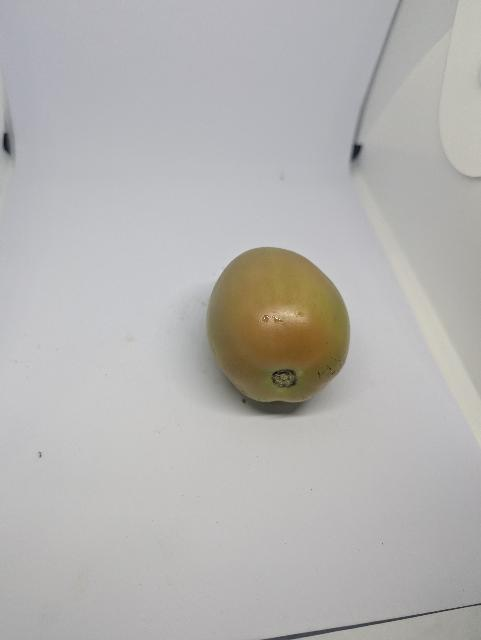breaker: (183, 239, 359, 414)
